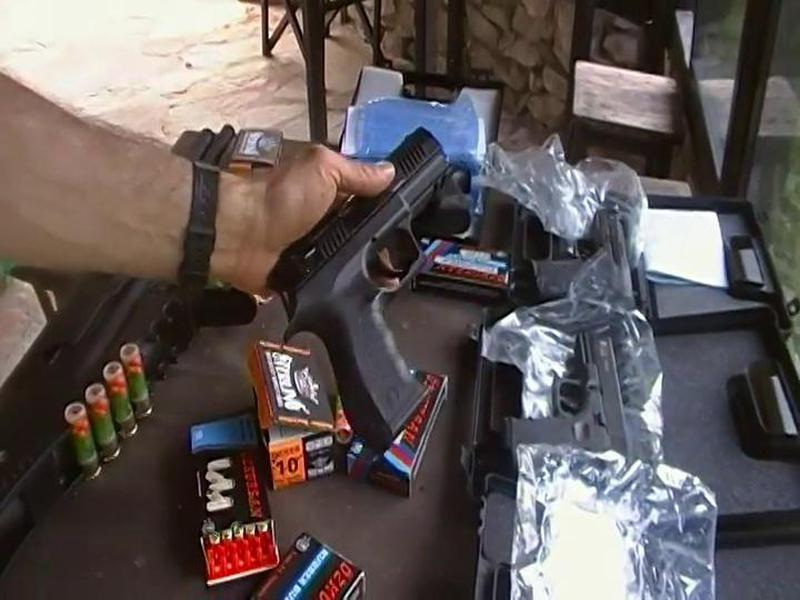Pistola: (255, 110, 470, 451)
